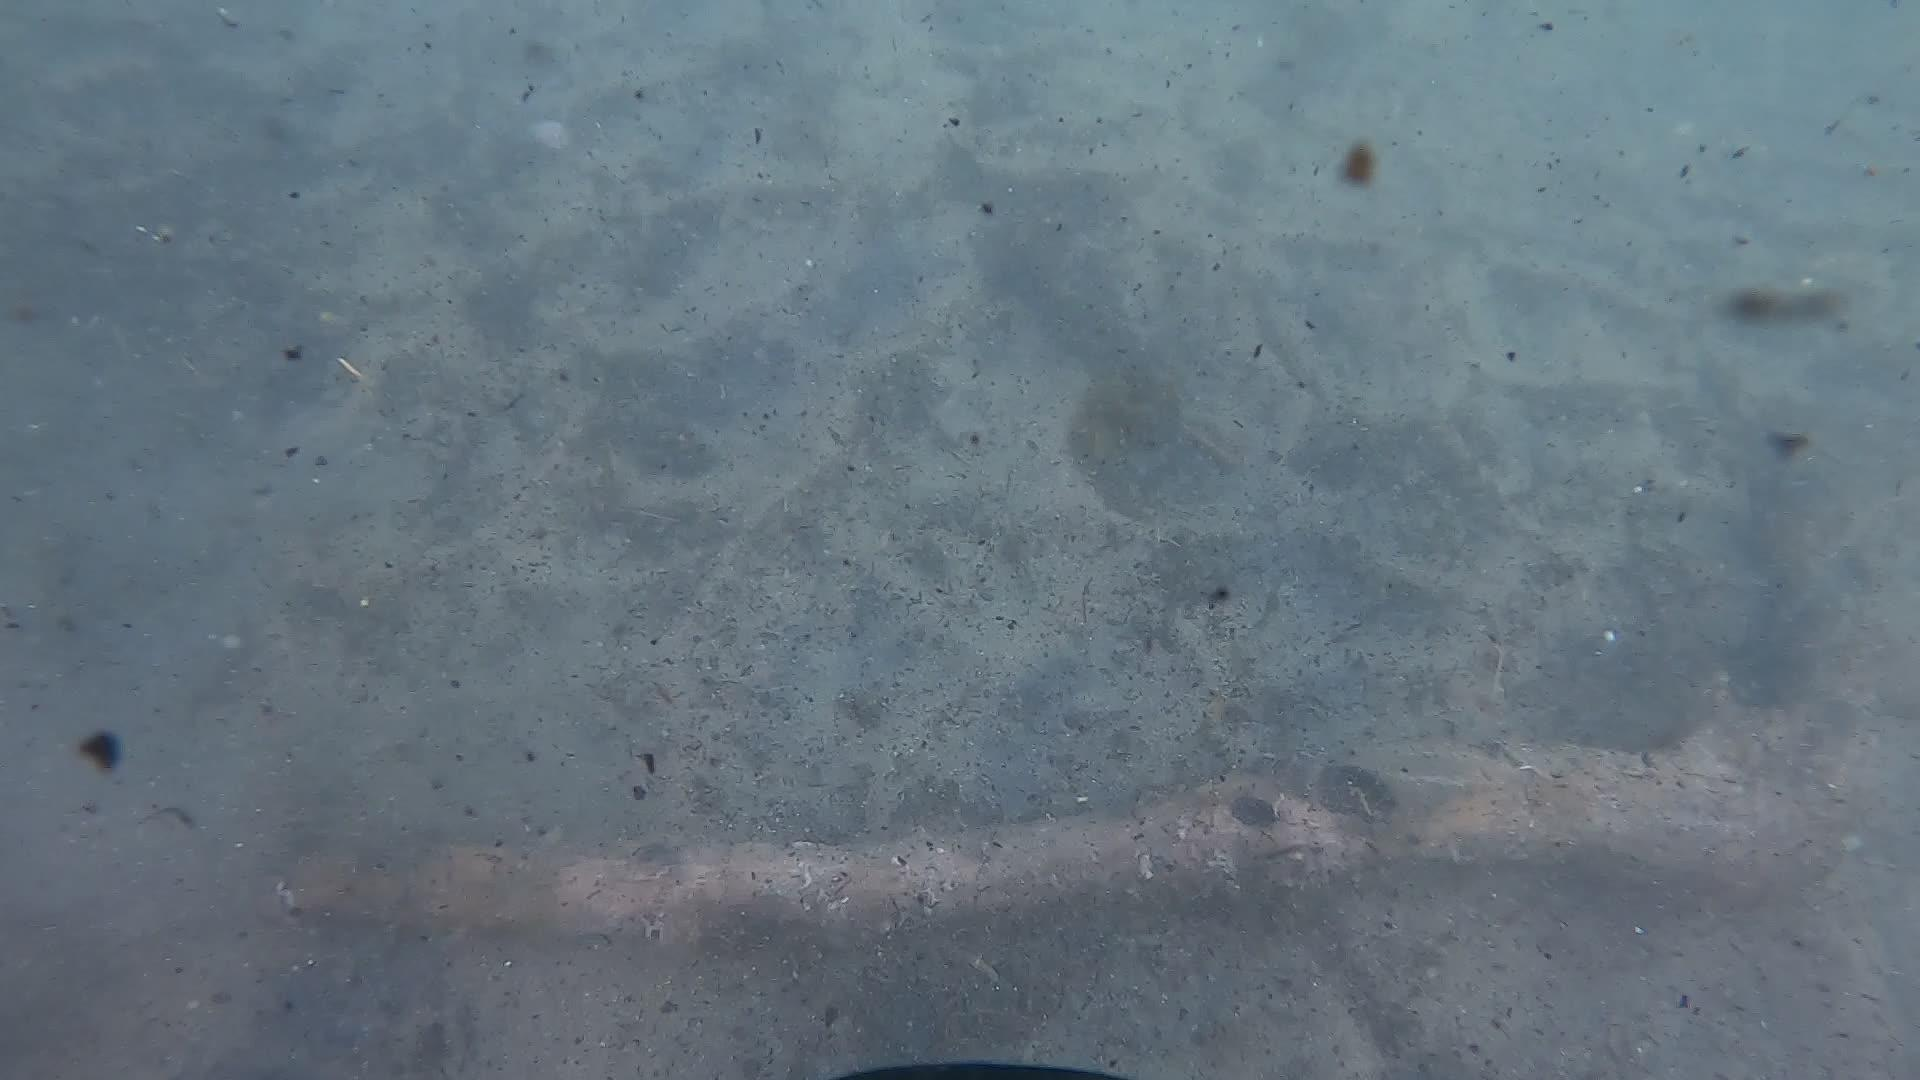wood: (280, 737, 1853, 947)
